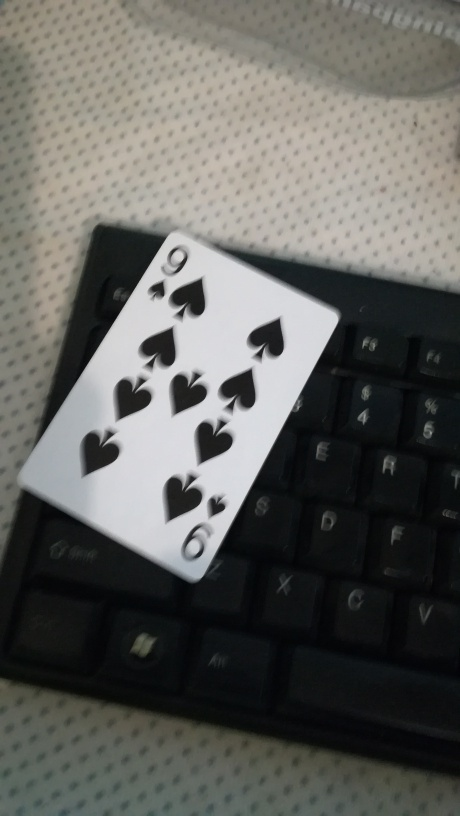ht 9: (16, 222, 344, 586)
